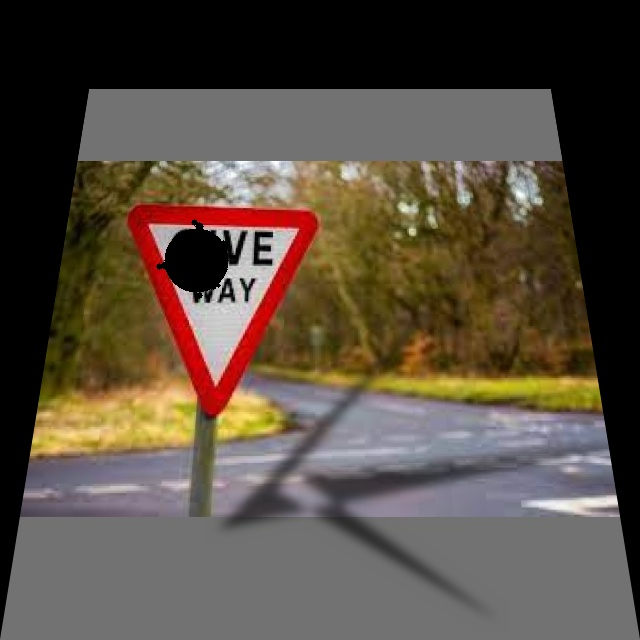Give_Way: (110, 208, 312, 405)
